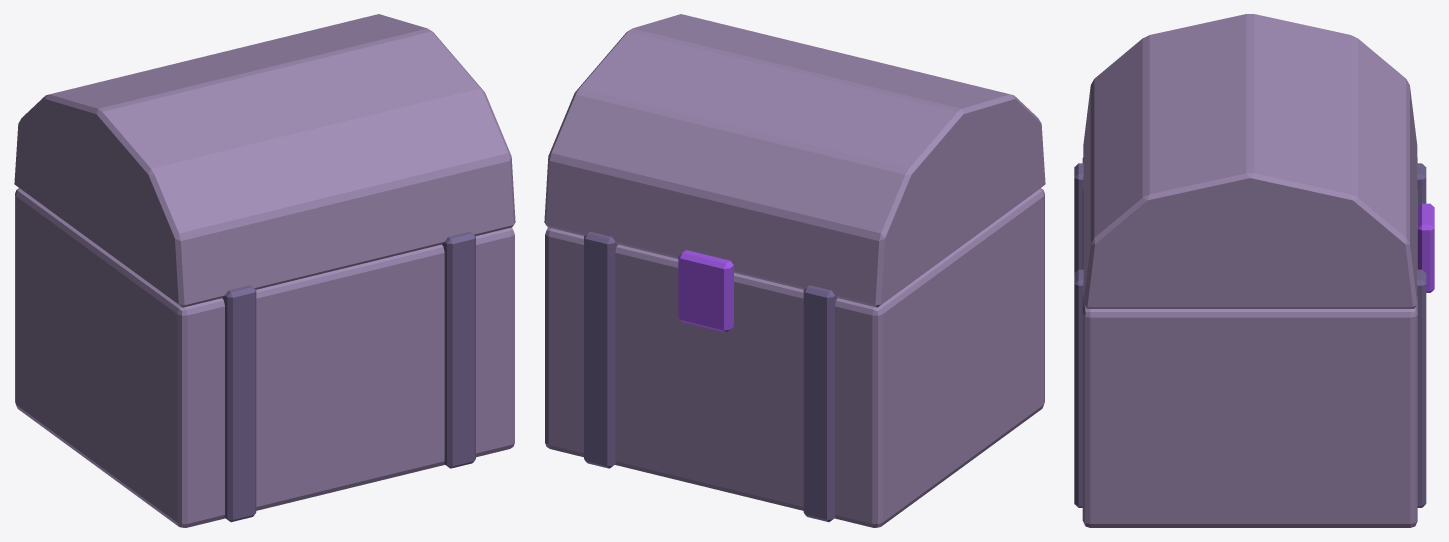
Rendered from shadow_chest_v0.glb.
3 views of the same model, side by side, from view 1: azimuth 30°, elevation 25°; view 2: azimuth 150°, elevation 25°; view 3: azimuth 270°, elevation 25° (orthographic).
Parts seen in each view (by area): view 1: shadow_chest_v0; view 2: shadow_chest_v0; view 3: shadow_chest_v0.
Part boxes in pixels (bbox=[...]): shadow_chest_v0: bbox=[14, 14, 515, 527]; shadow_chest_v0: bbox=[544, 14, 1045, 527]; shadow_chest_v0: bbox=[1074, 14, 1434, 527].
Bounding box in the file's own units: 0.92 × 0.9377 × 0.86.
